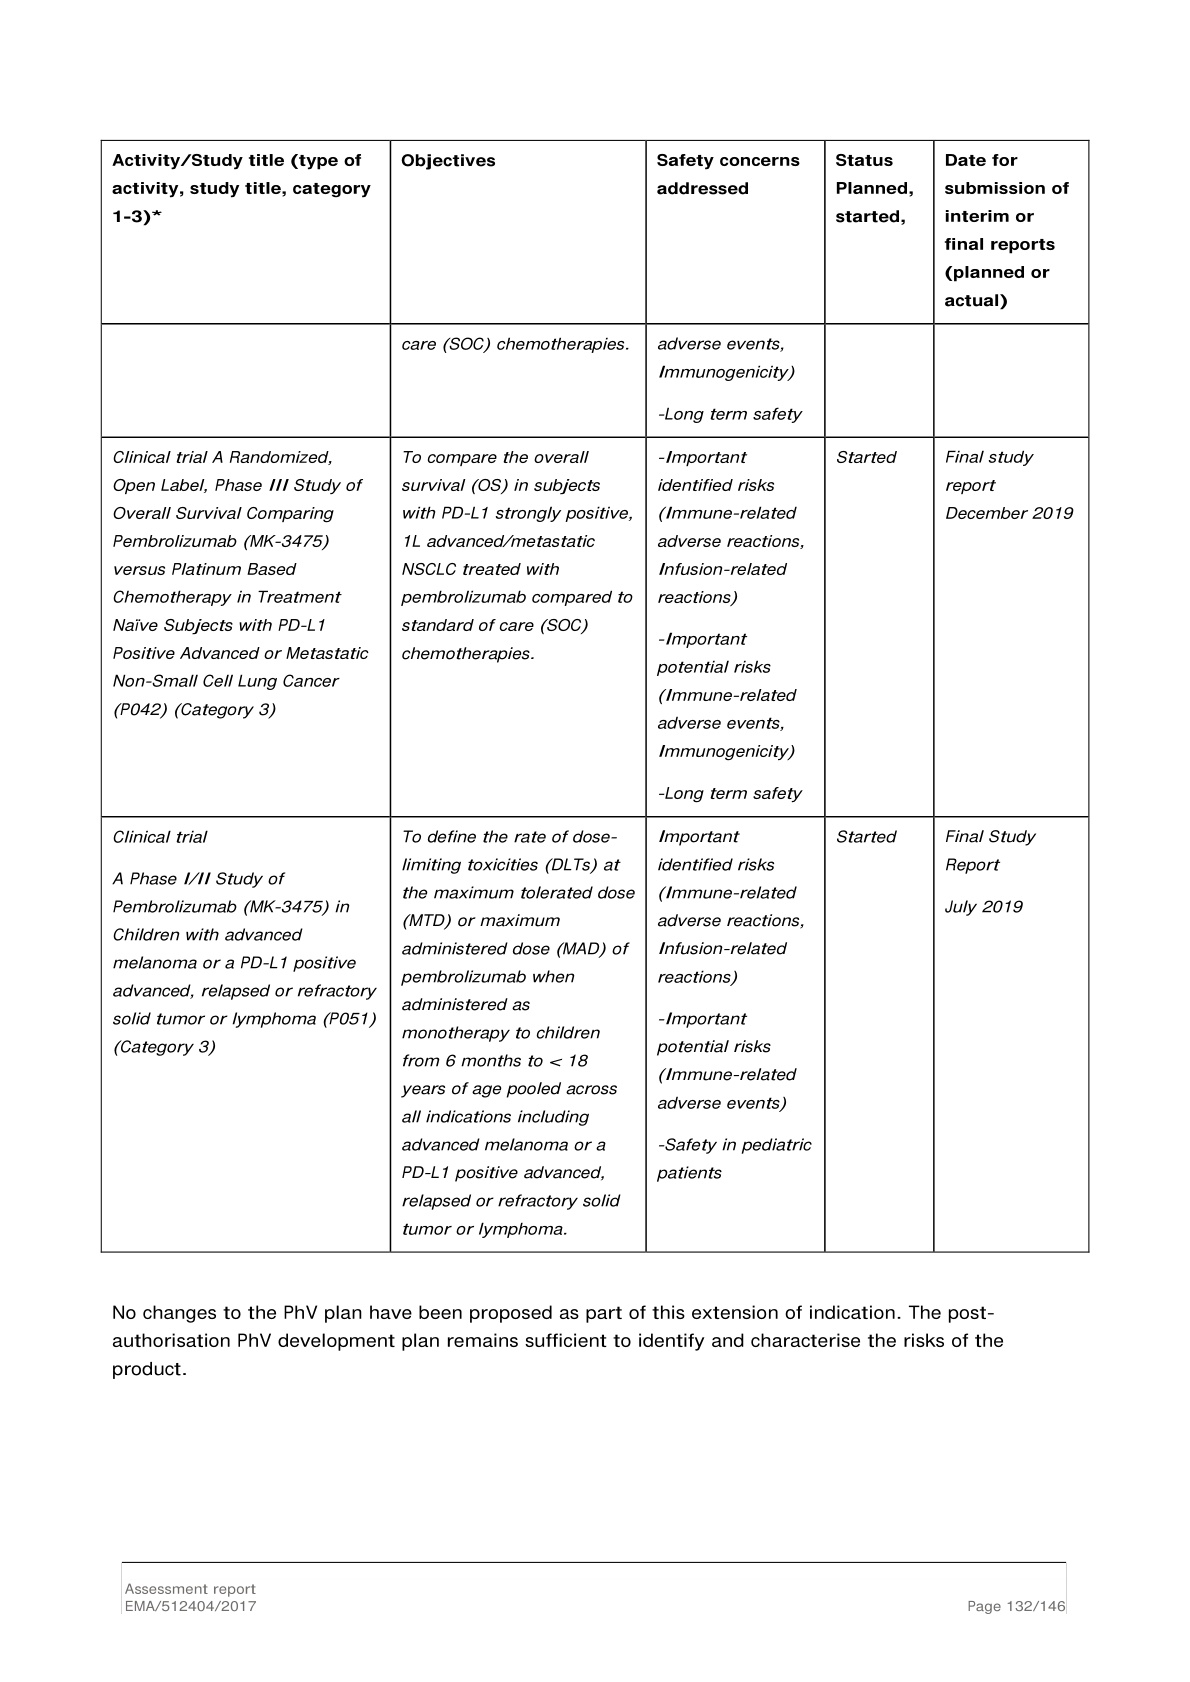full_lined: (100, 139, 1090, 1253)
